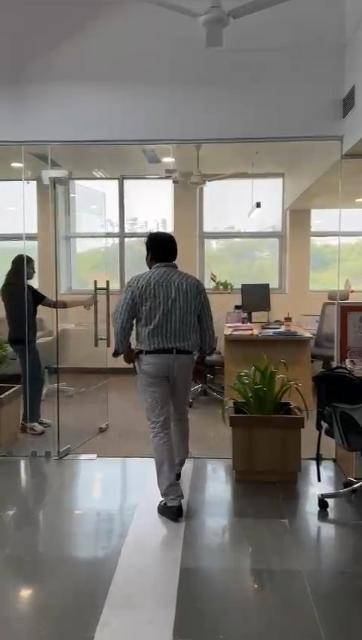floor: (0, 403, 362, 640)
moving-obj: (91, 221, 231, 525), (0, 242, 76, 454)
object: (227, 362, 301, 494), (313, 362, 362, 476), (240, 282, 282, 326)
